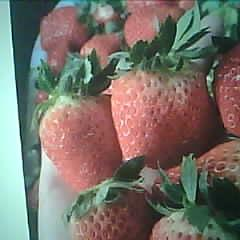straw-ripe: (40, 96, 120, 190), (111, 73, 189, 168)
